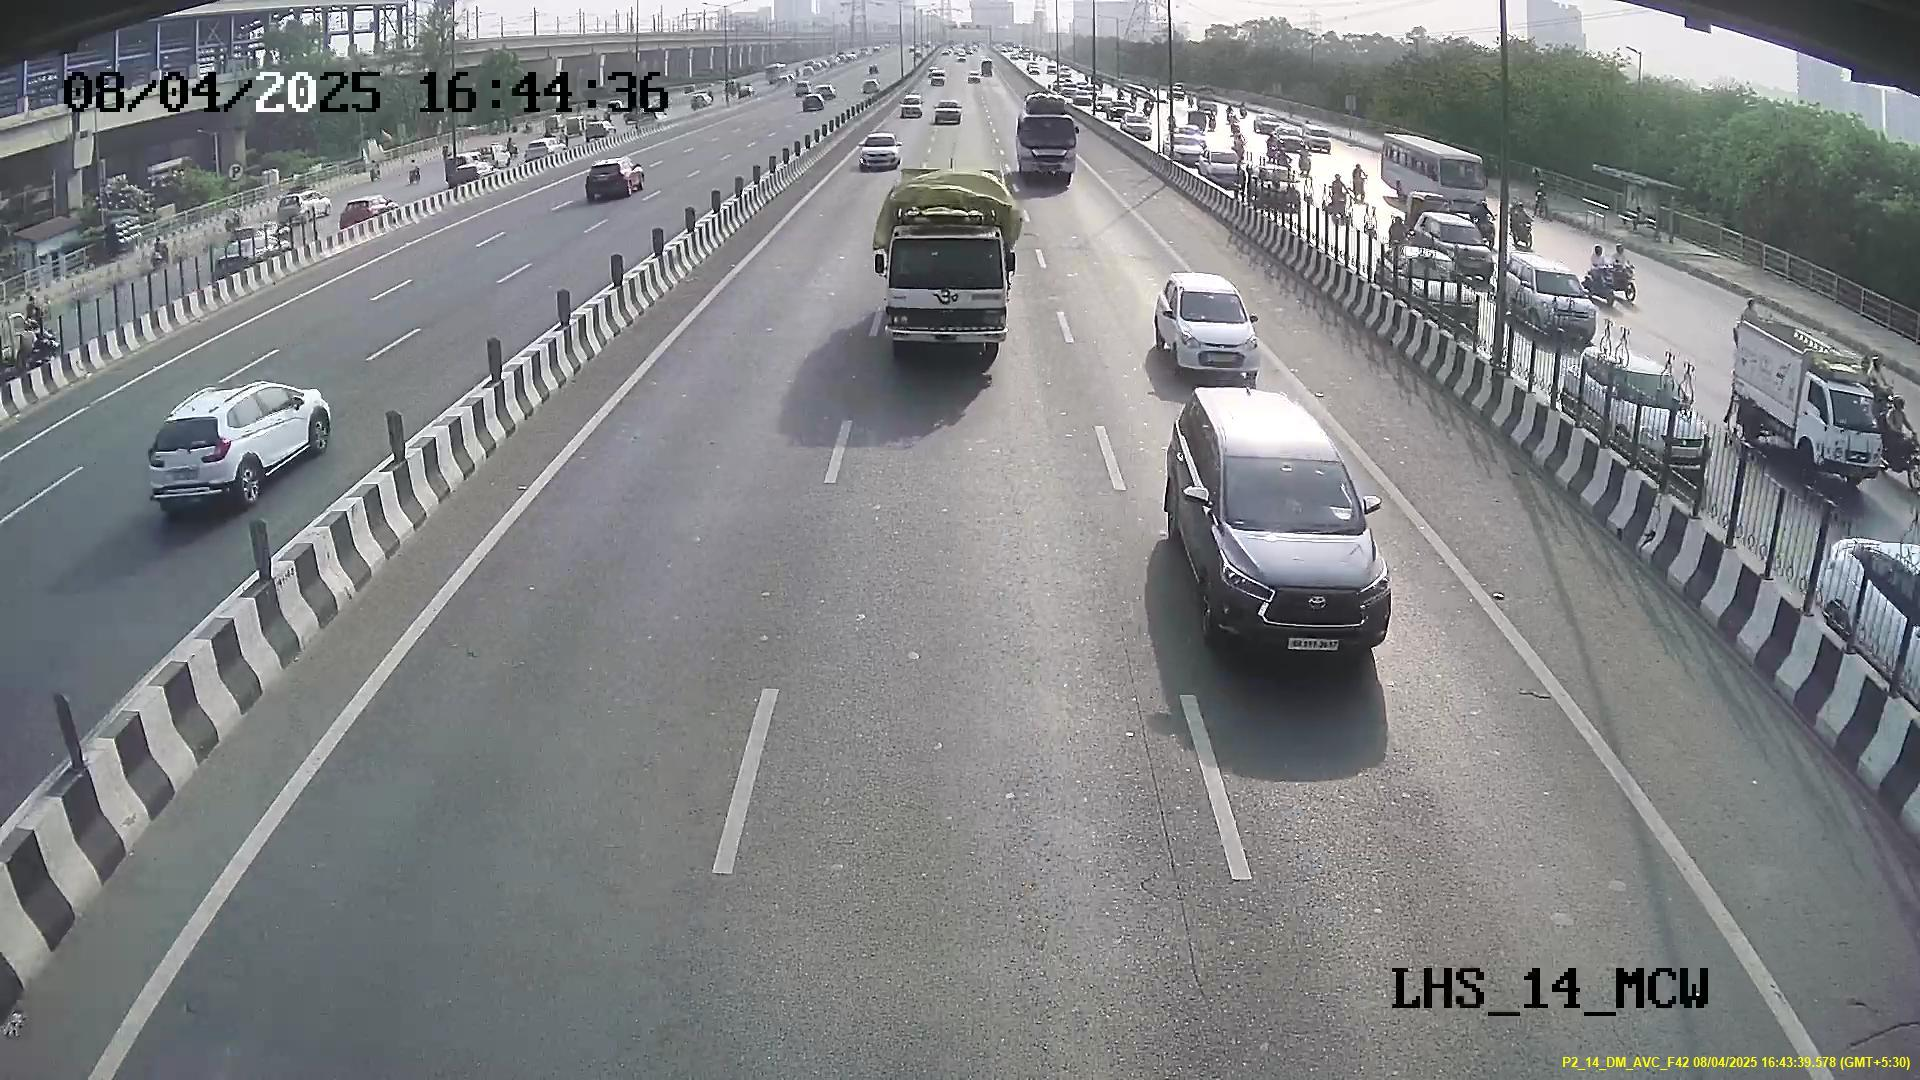car: (1199, 448, 1394, 665), (1163, 284, 1261, 373)
lcv: (877, 223, 1015, 363)
